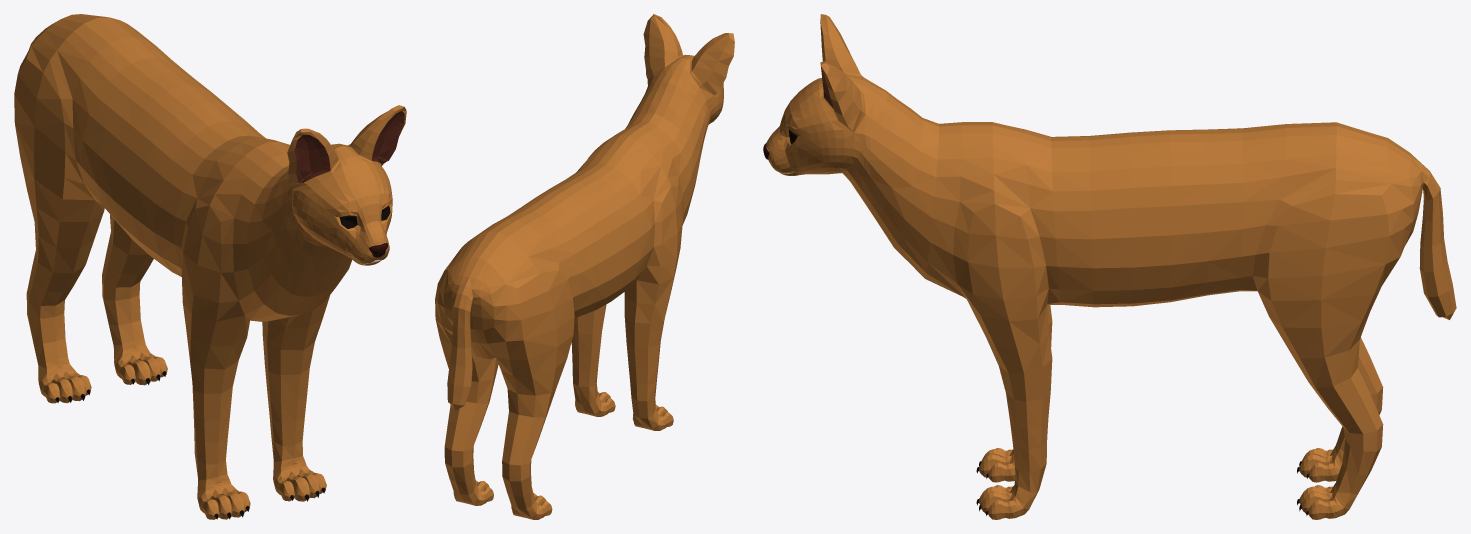
The model's file is serval_serval.obj.
The picture shows the model from 3 angles, left to right: view 1: azimuth 30°, elevation 25°; view 2: azimuth 150°, elevation 25°; view 3: azimuth 270°, elevation 25°; orthographic projection. The views are drawn at different scales.
Size of the model in its own units: 0.2282 by 0.7029 by 0.9723.
